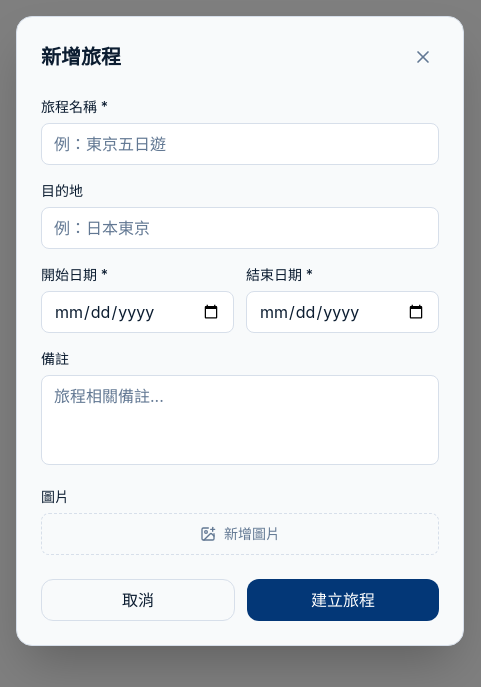
AddTripModal › auto-fills the end date to 3 days after the start date
The width and height of the screenshot is (481, 687).
Type "2026-01-01" into the date field below "開始日期 *" at (138,312), box [41,291,234,333]
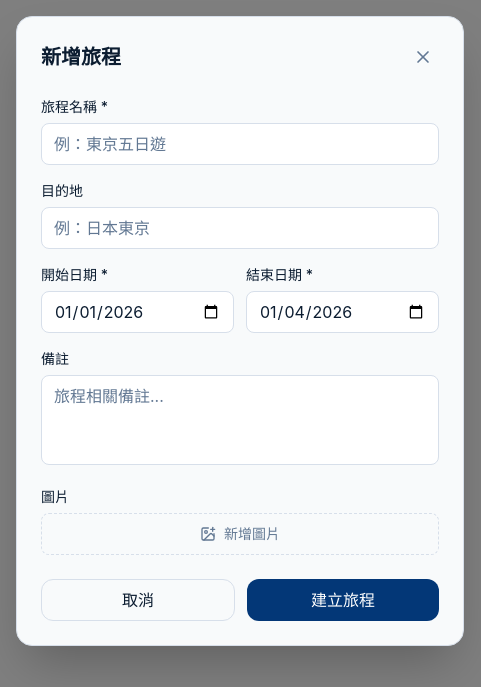
Check: the date field named "endDate" below "結束日期 *" holds "2026-01-04", box [246,291,439,333]
